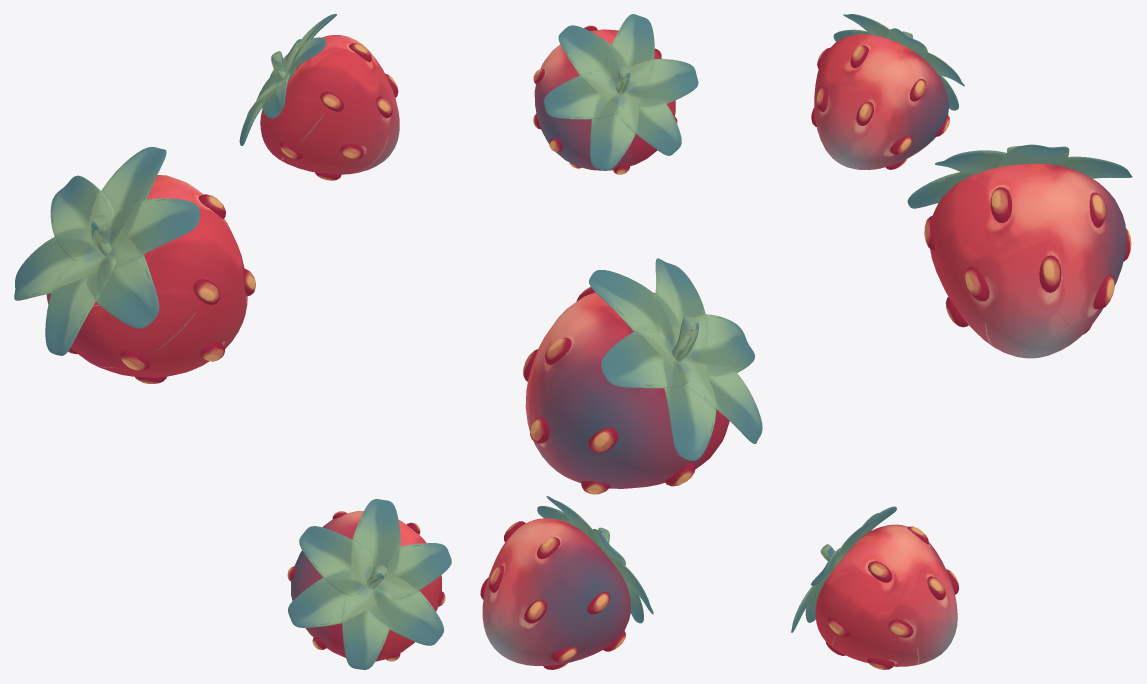
File: Strawberry Scene.glb
The picture shows the model from 3 angles, left to right: view 1: azimuth 30°, elevation 25°; view 2: azimuth 150°, elevation 25°; view 3: azimuth 270°, elevation 25°; orthographic projection. The views are drawn at different scales.
Parts seen in each view (by area): view 1: Plane.007, Plane.002, Plane, Plane.003, Plane.001, Plane.004, Cube.001, Cube.003; view 2: Plane, Plane.007, Plane.001, Plane.004, Plane.003, Cube.001, Plane.002, Cube.002, Cube.003; view 3: Plane, Plane.001, Plane.003, Plane.007, Cube.001, Plane.004, Cube.002, Plane.002, Cube.003.
Boxes of the visible parts, x1=… form: Plane.007: x1=14, y1=147, x2=199, y2=355; Plane.002: x1=288, y1=499, x2=451, y2=669; Plane: x1=46, y1=175, x2=247, y2=377; Plane.003: x1=260, y1=35, x2=399, y2=174; Plane.001: x1=291, y1=511, x2=441, y2=661; Plane.004: x1=239, y1=14, x2=336, y2=145; Cube.001: x1=68, y1=194, x2=255, y2=383; Cube.003: x1=280, y1=43, x2=398, y2=180; Plane: x1=525, y1=292, x2=729, y2=488; Plane.007: x1=589, y1=258, x2=762, y2=460; Plane.001: x1=482, y1=518, x2=630, y2=665; Plane.004: x1=544, y1=14, x2=698, y2=170; Plane.003: x1=534, y1=29, x2=675, y2=170; Cube.001: x1=523, y1=287, x2=695, y2=494; Plane.002: x1=537, y1=496, x2=653, y2=623; Cube.002: x1=480, y1=521, x2=625, y2=669; Cube.003: x1=533, y1=25, x2=677, y2=174; Plane: x1=930, y1=163, x2=1126, y2=358; Plane.001: x1=815, y1=524, x2=957, y2=666; Plane.003: x1=814, y1=34, x2=949, y2=169; Plane.007: x1=907, y1=144, x2=1132, y2=208; Cube.001: x1=924, y1=187, x2=1131, y2=334; Plane.004: x1=833, y1=14, x2=964, y2=110; Cube.002: x1=825, y1=526, x2=959, y2=669; Plane.002: x1=791, y1=506, x2=896, y2=632; Cube.003: x1=811, y1=45, x2=949, y2=169.
Size of the model in its own units: 10.46 by 19.98 by 9.92.
Materials: 7 (7 with a texture image).
